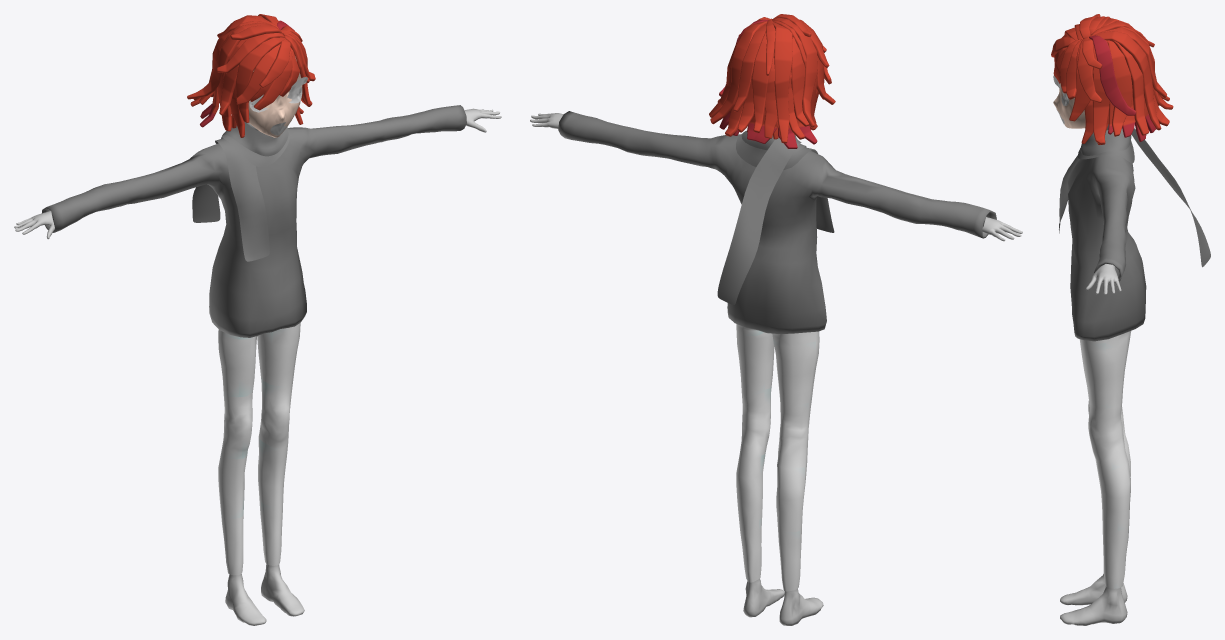
File: person.obj
3 renders of one model, left to right at view 1: azimuth 30°, elevation 25°; view 2: azimuth 150°, elevation 25°; view 3: azimuth 270°, elevation 25°, orthographic.
Parts seen in each view (by area): view 1: Top, bot, hair, scarf, body, Head; view 2: Top, bot, hair, scarf, body; view 3: Top, hair, bot, body, scarf, Head.
Part boxes in pixels (x1,y1,x2,y2): Top: (42,105,466,337); bot: (218,323,300,575); hair: (187,14,315,137); scarf: (192,122,289,261); body: (14,108,501,625); Head: (248,56,302,137); Top: (558,111,996,334); bot: (736,324,819,591); hair: (709,14,835,148); scarf: (717,130,834,304); body: (530,113,1022,625); Top: (1068,154,1146,341); hair: (1051,14,1173,144); bot: (1079,331,1131,588); body: (1060,124,1127,625); scarf: (1059,128,1210,267); Head: (1053,83,1085,128).
Size of the model in its own units: 1.39 by 1.61 by 0.395.
